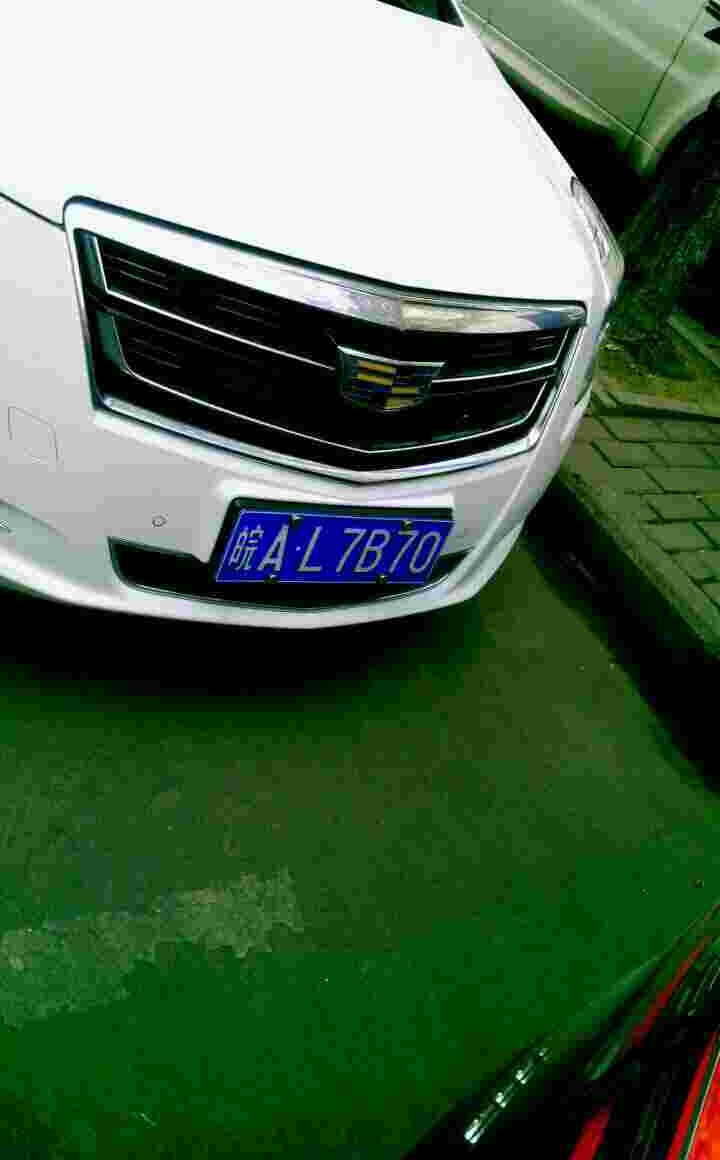plate: (219, 511, 466, 590)
